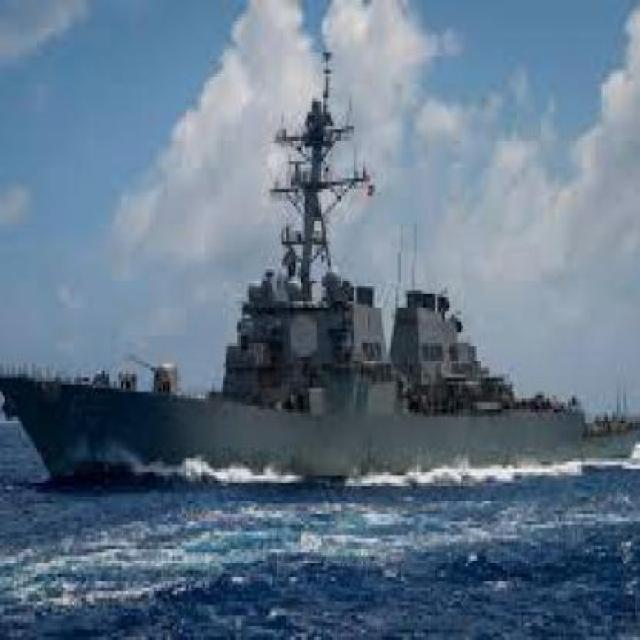warship2: (6, 71, 640, 508)
